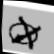not correct: (4, 14, 46, 51)
